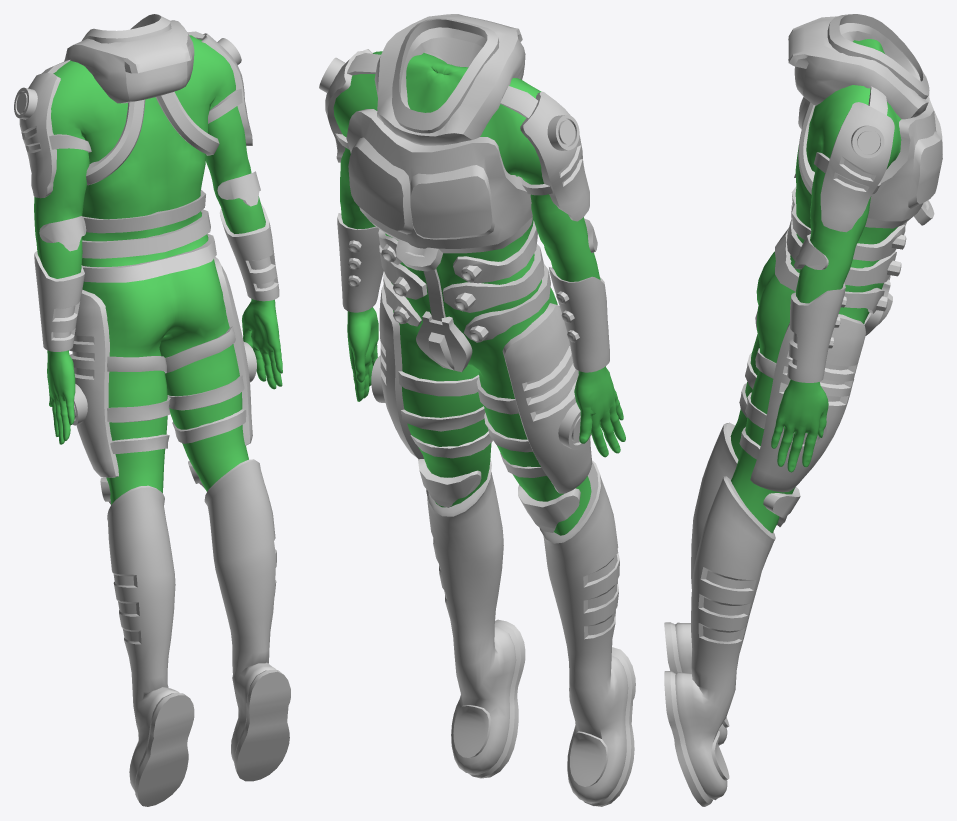
The model's file is SUITRACK_1.fbx.
3 views of the same model, side by side, from view 1: azimuth 30°, elevation 25°; view 2: azimuth 150°, elevation 25°; view 3: azimuth 270°, elevation 25° (orthographic). The views are drawn at different scales.
Visible parts, largest first — view 1: emptySuit_LOD0; view 2: emptySuit_LOD0; view 3: emptySuit_LOD0.
Part boxes in pixels (<box>): emptySuit_LOD0: <box>14,14,290,806</box>; emptySuit_LOD0: <box>319,14,635,806</box>; emptySuit_LOD0: <box>664,14,942,806</box>.
Size of what is drawn, in the model's own units: 0.7457 by 2.22 by 0.7474.
